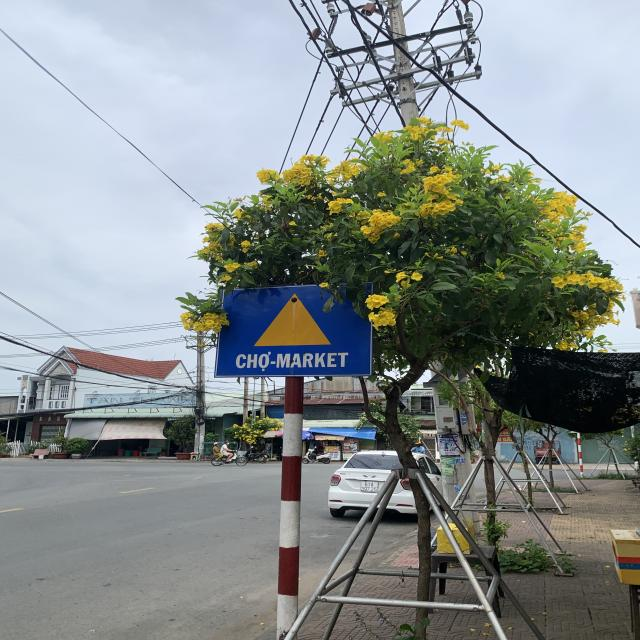Cho_Quay_Xe: (222, 287, 371, 377)
